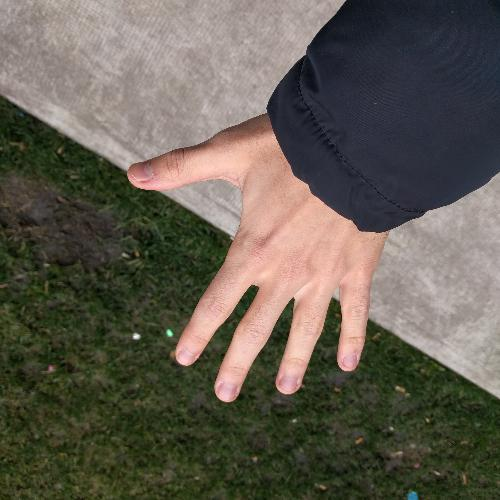paper: (120, 111, 394, 406)
